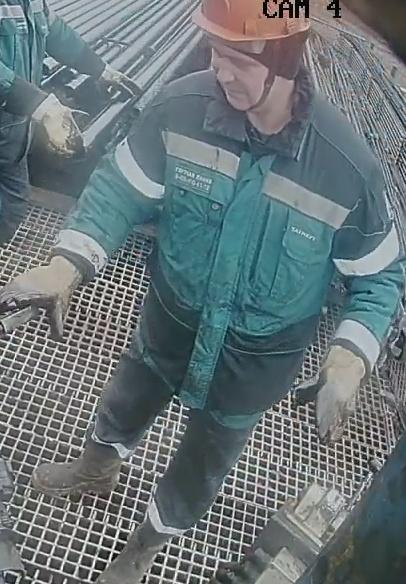gloves: (0, 254, 92, 342), (294, 341, 370, 445)
helmet: (190, 0, 313, 63)
vest: (122, 70, 396, 417)
